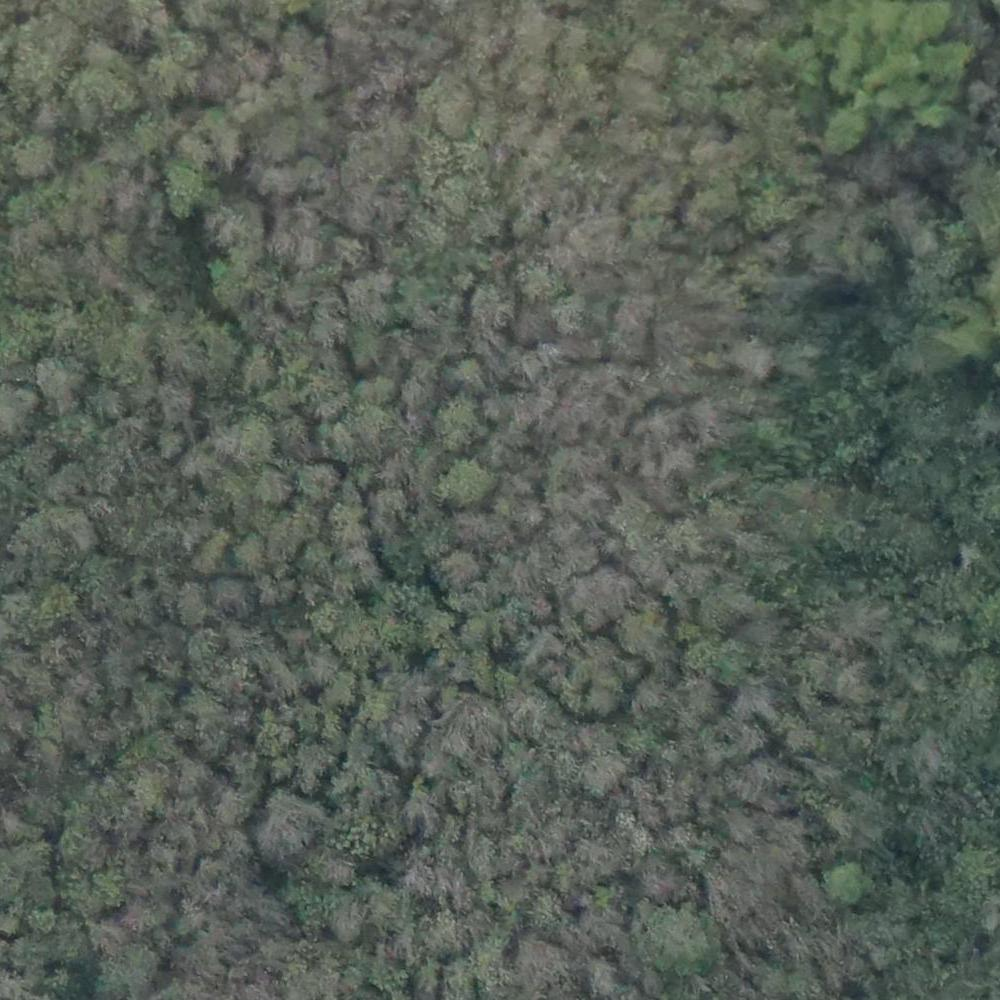tree: (643, 906, 718, 974), (548, 440, 620, 507), (254, 790, 319, 855), (71, 71, 143, 128), (269, 207, 331, 270), (569, 208, 632, 269), (157, 155, 216, 219), (566, 571, 629, 630), (183, 111, 242, 171), (440, 462, 500, 519), (100, 944, 160, 997), (435, 401, 486, 463), (348, 401, 403, 458), (552, 66, 605, 124), (693, 182, 744, 240), (210, 257, 259, 317), (422, 904, 475, 958), (36, 452, 87, 507), (321, 888, 371, 944), (221, 418, 276, 462), (471, 278, 520, 327), (327, 492, 371, 546), (422, 84, 472, 131), (206, 577, 257, 623), (826, 862, 874, 910), (616, 290, 662, 340), (168, 26, 224, 67), (826, 100, 867, 155), (579, 754, 624, 803), (36, 359, 76, 413), (1, 388, 38, 446), (432, 553, 480, 597), (513, 259, 563, 301), (331, 550, 379, 593), (445, 356, 488, 400), (192, 529, 237, 571), (294, 459, 339, 500), (246, 466, 291, 507), (557, 291, 593, 328), (356, 371, 393, 404), (132, 771, 163, 807), (236, 537, 265, 573)
